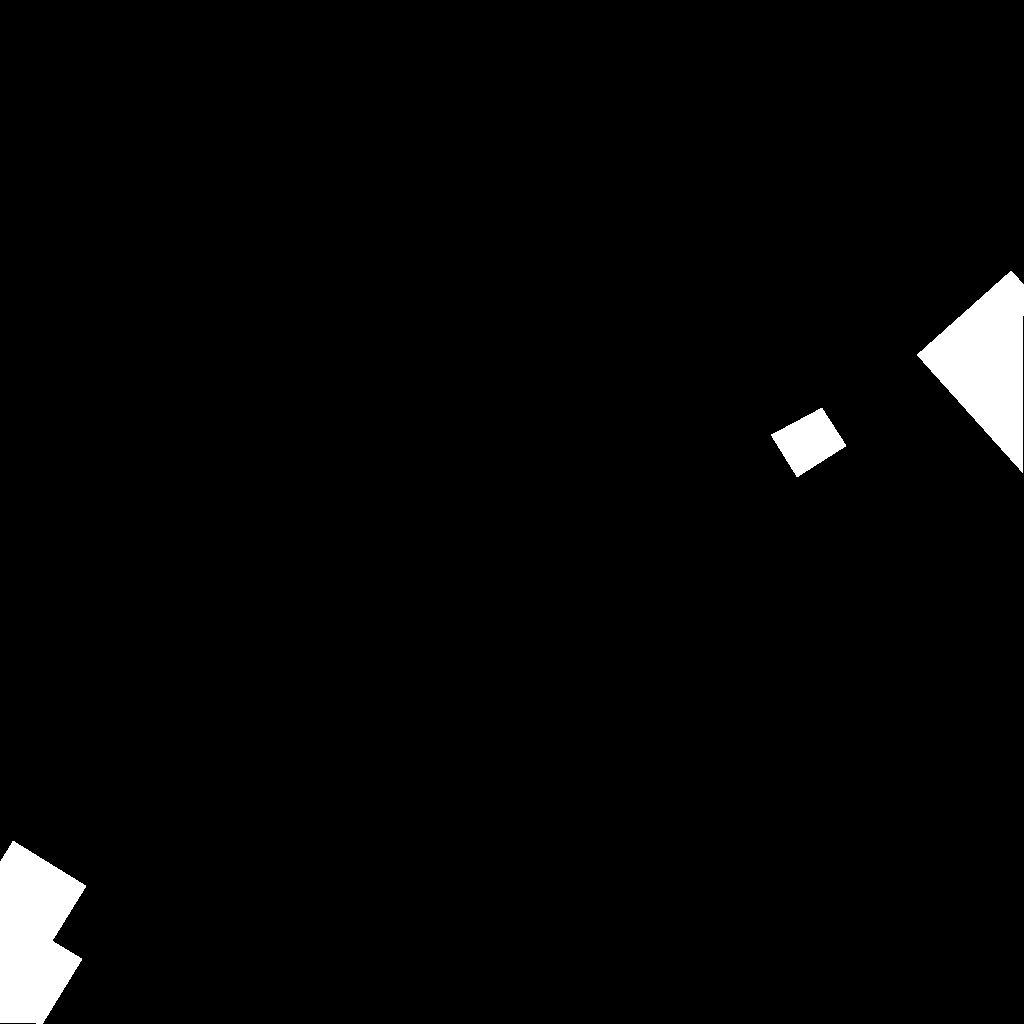building: (917, 271, 1024, 474), (0, 841, 87, 1024), (771, 408, 847, 478)
